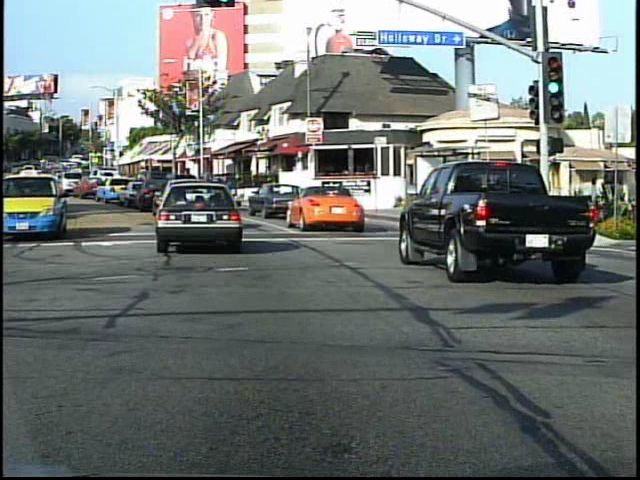person: (596, 176, 619, 257)
